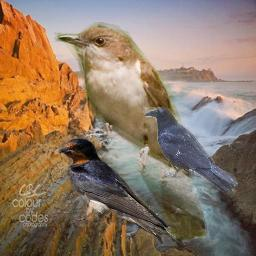Crow: (143, 107, 238, 197)
Cuckoo: (54, 22, 207, 243)
Swallow: (58, 137, 188, 249)
